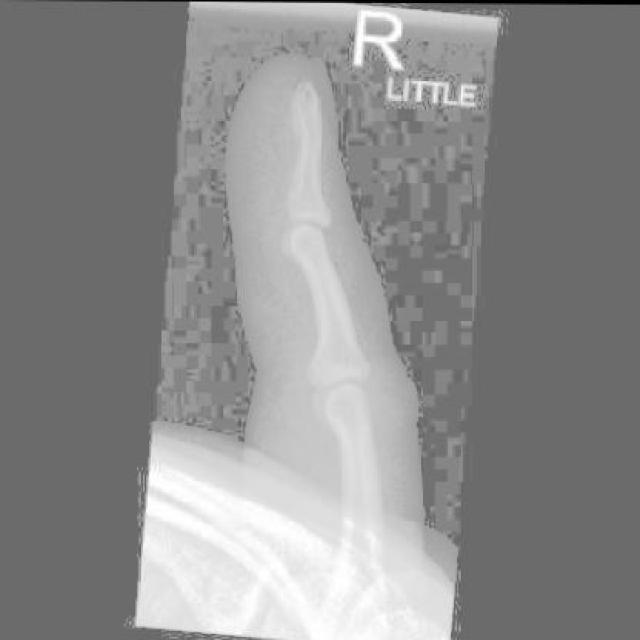Fracture: (279, 108, 333, 163)
